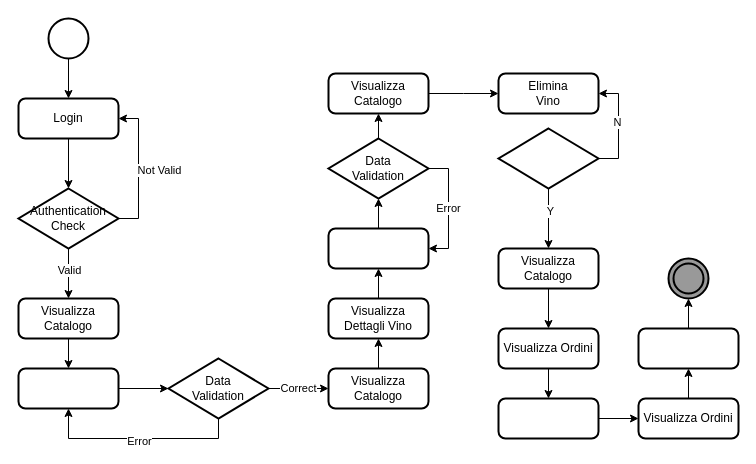
This 756x464 diagram has some shape labels left out. The shapes that lost their labels are listed below. From the top down, each one's box as (x1, y1, x2, y2) in pixels, then its label:
(47, 17, 89, 59): Gestore
(497, 127, 599, 189): Wine exists?
(327, 227, 429, 269): Modifica Vino
(637, 327, 739, 369): Respingi Ordine
(17, 367, 119, 409): Aggiungi Vino
(497, 397, 599, 439): Approva Ordine
